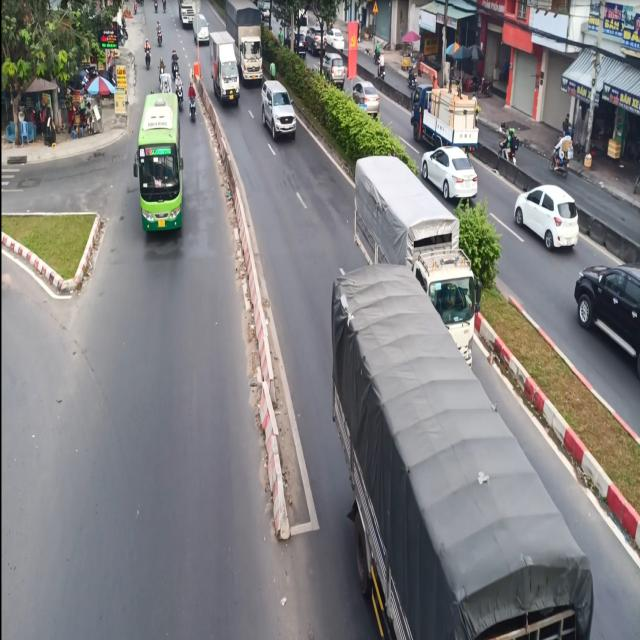bus: (132, 91, 187, 242)
car: (258, 78, 296, 149)
motor: (187, 77, 198, 125)
truck: (329, 269, 604, 640), (210, 26, 240, 110)
